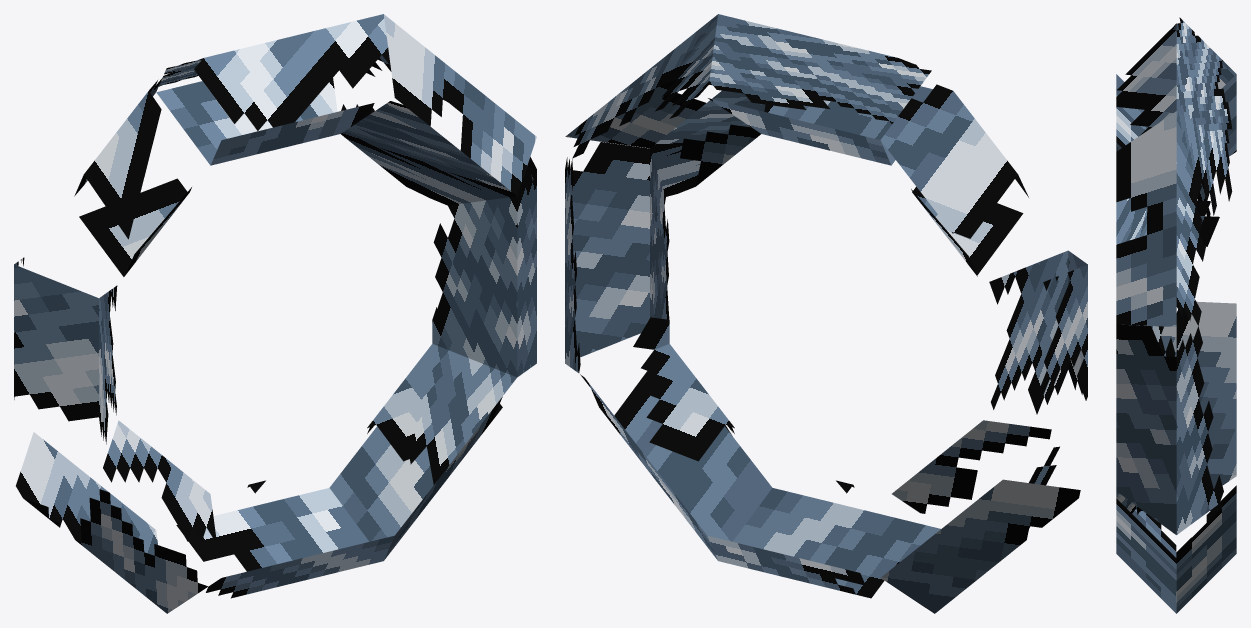
Rendered from sprite_core.obj.
3 views of the same model, side by side, from view 1: azimuth 30°, elevation 25°; view 2: azimuth 150°, elevation 25°; view 3: azimuth 270°, elevation 25° (orthographic). The views are drawn at different scales.
Parts seen in each view (by area): view 1: Torus; view 2: Torus; view 3: Torus.
Part boxes in pixels (x1=…): Torus: x1=14, y1=14, x2=536, y2=613; Torus: x1=565, y1=14, x2=1087, y2=613; Torus: x1=1116, y1=17, x2=1236, y2=613.
Size of the model in its own units: 2.15 by 2.15 by 0.4646.
